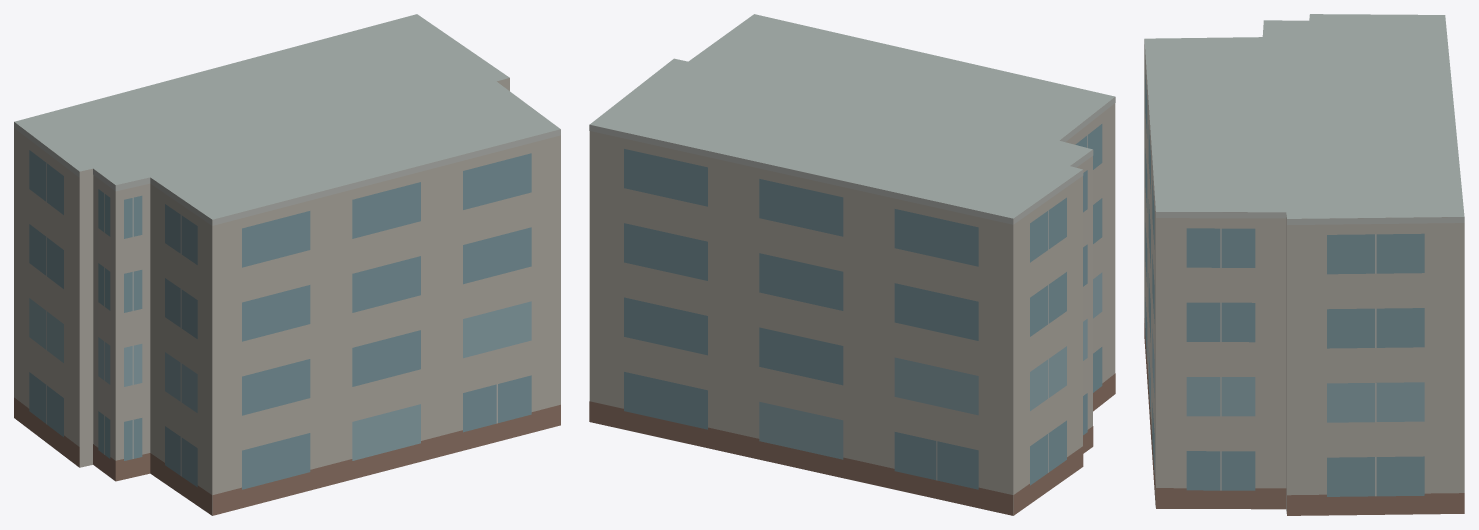
File: survey-upis-32613989.glb
The picture shows the model from 3 angles, left to right: view 1: azimuth 30°, elevation 25°; view 2: azimuth 150°, elevation 25°; view 3: azimuth 270°, elevation 25°; orthographic projection.
Parts seen in each view (by area): view 1: survey-upis-32613989.tmp; view 2: survey-upis-32613989.tmp; view 3: survey-upis-32613989.tmp.
Boxes of the visible parts, <box> form: survey-upis-32613989.tmp: <box>14,14,560,515</box>; survey-upis-32613989.tmp: <box>589,14,1115,515</box>; survey-upis-32613989.tmp: <box>1144,14,1464,515</box>.
Size of the model in its own units: 17.33 by 11.7 by 11.44.
